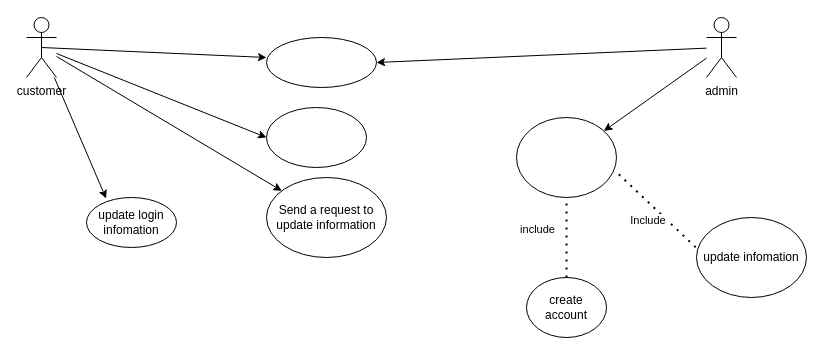
Image size: 824x355. Some labels were removed from this diagram. The centre of each missing label's shape, as x and y in pixels:
"login, register" belongs at [321,62].
"verify information" belongs at [566,157].
"view infomation" belongs at [316,137].
